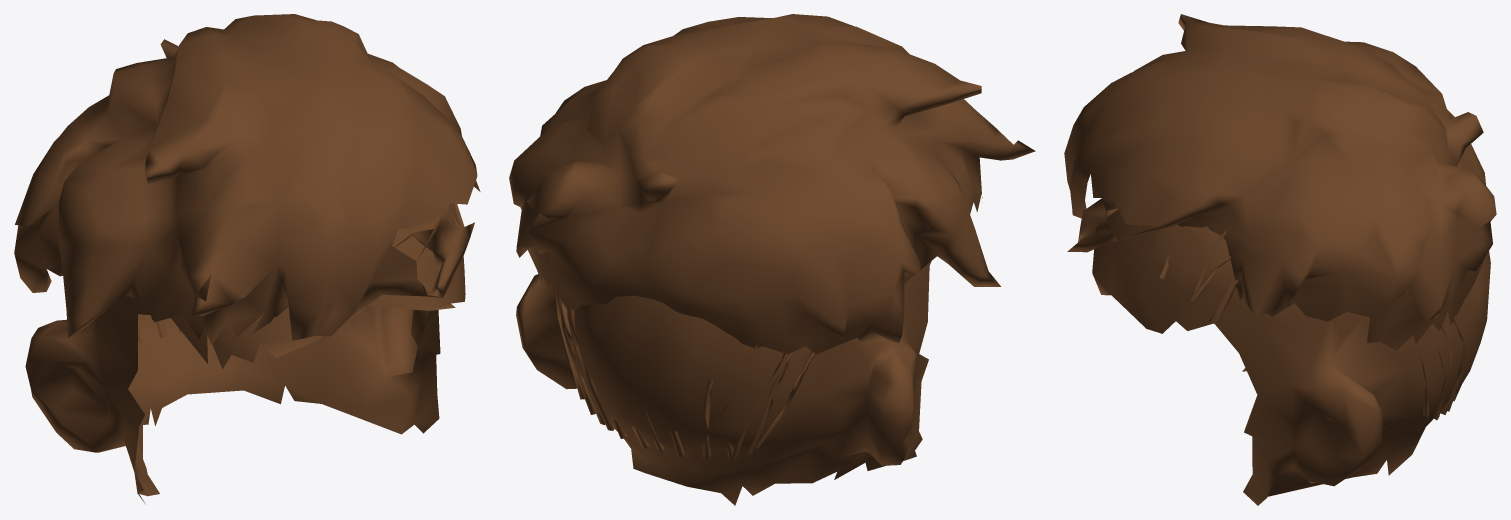
The model's file is short-fringe.glb.
3 views of the same model, side by side, from view 1: azimuth 30°, elevation 25°; view 2: azimuth 150°, elevation 25°; view 3: azimuth 270°, elevation 25° (orthographic). The views are drawn at different scales.
Parts seen in each view (by area): view 1: Hair, HairScalp; view 2: Hair, HairScalp, HairPulledRootStrands; view 3: Hair, HairScalp, HairPulledRootStrands.
Boxes of the visible parts, left/top/right/bottom form: Hair: left=14, top=14, right=480, bottom=345; HairScalp: left=25, top=203, right=465, bottom=504; Hair: left=509, top=14, right=1035, bottom=354; HairScalp: left=516, top=261, right=931, bottom=505; HairPulledRootStrands: left=555, top=290, right=815, bottom=460; Hair: left=1064, top=14, right=1496, bottom=350; HairScalp: left=1092, top=201, right=1490, bottom=505; HairPulledRootStrands: left=1158, top=230, right=1465, bottom=420.
Size of the model in its own units: 0.4862 by 0.4456 by 0.4494.
